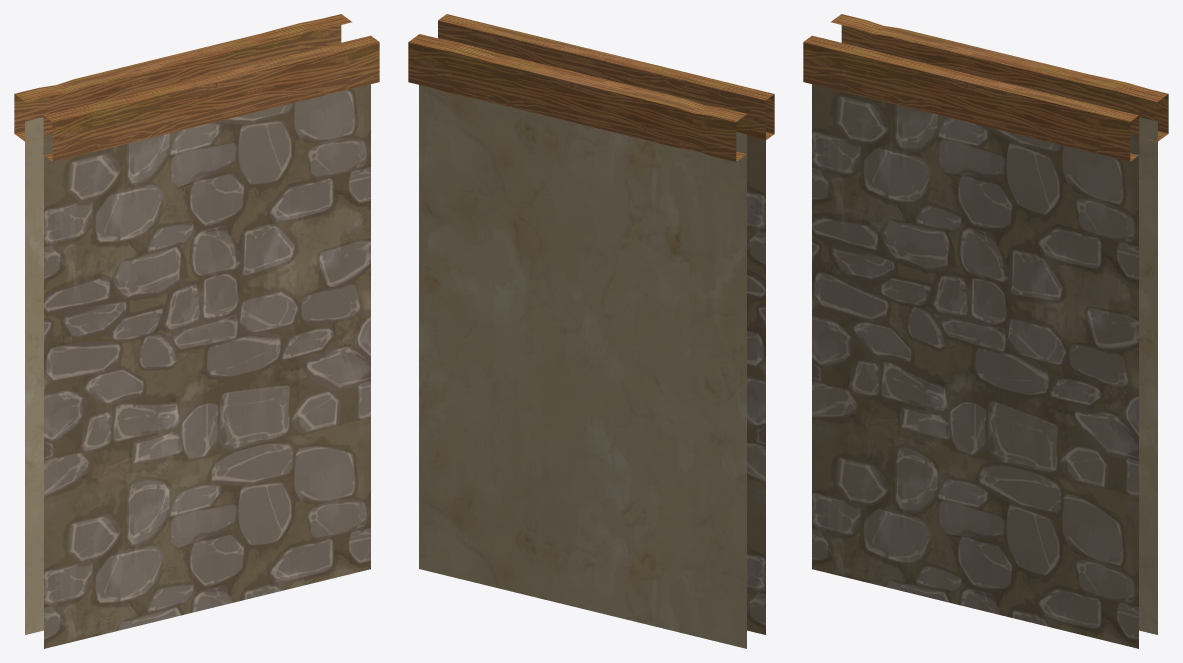
Rendered from Wall_UnevenBrick_Straight.gltf.
The picture shows the model from 3 angles, left to right: view 1: azimuth 30°, elevation 25°; view 2: azimuth 150°, elevation 25°; view 3: azimuth 330°, elevation 25°; orthographic projection.
Visible parts, largest first — view 1: Wall_UnevenBrick_Straight; view 2: Wall_UnevenBrick_Straight; view 3: Wall_UnevenBrick_Straight.
Boxes of the visible parts, x1,y1,x2,y2 form: Wall_UnevenBrick_Straight: (14,14,379,648); Wall_UnevenBrick_Straight: (408,14,774,648); Wall_UnevenBrick_Straight: (803,14,1168,648).
Bounding box in the file's own units: 2 × 3.12 × 0.4065.
Materials: 3 (3 with a texture image).
